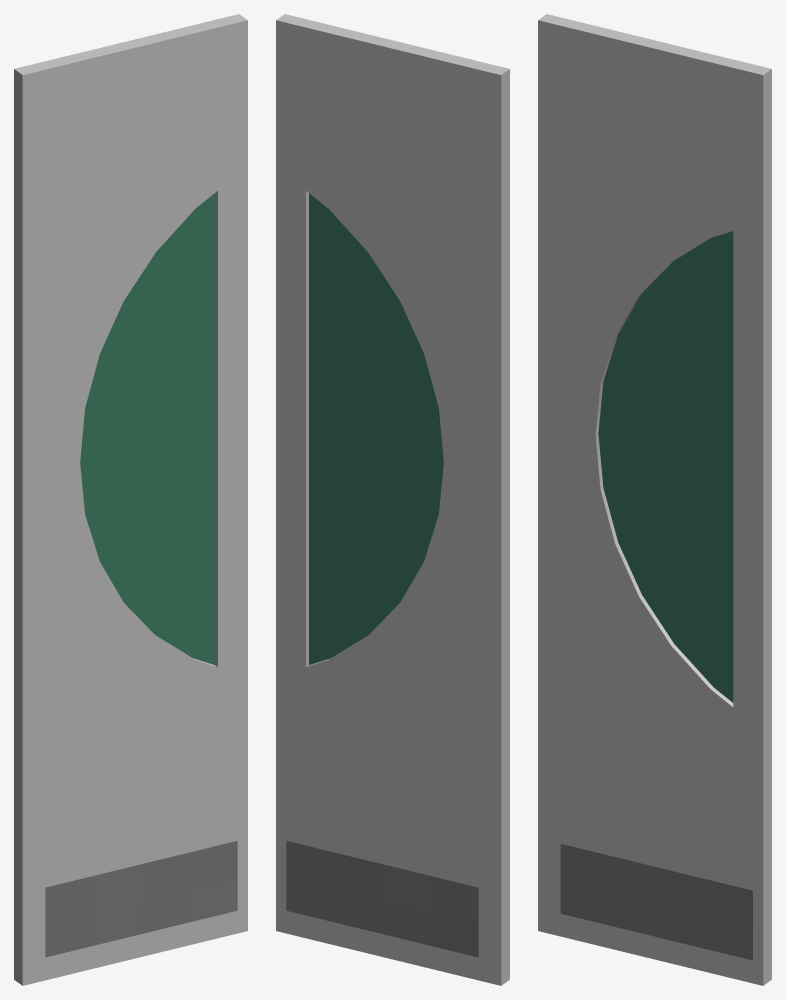
File: SW_corridor__R_lobby_R_aula_ovi_1.FBX
3 views of the same model, side by side, from view 1: azimuth 30°, elevation 25°; view 2: azimuth 150°, elevation 25°; view 3: azimuth 330°, elevation 25° (orthographic).
Parts seen in each view (by area): view 1: SW_corridor__R_lobby_R_aula_ovi_1; view 2: SW_corridor__R_lobby_R_aula_ovi_1; view 3: SW_corridor__R_lobby_R_aula_ovi_1.
Part boxes in pixels (x1=…): SW_corridor__R_lobby_R_aula_ovi_1: x1=14, y1=14, x2=247, y2=985; SW_corridor__R_lobby_R_aula_ovi_1: x1=276, y1=14, x2=509, y2=985; SW_corridor__R_lobby_R_aula_ovi_1: x1=538, y1=14, x2=771, y2=985.
Size of the model in its own units: 53 by 3.5 by 205.
